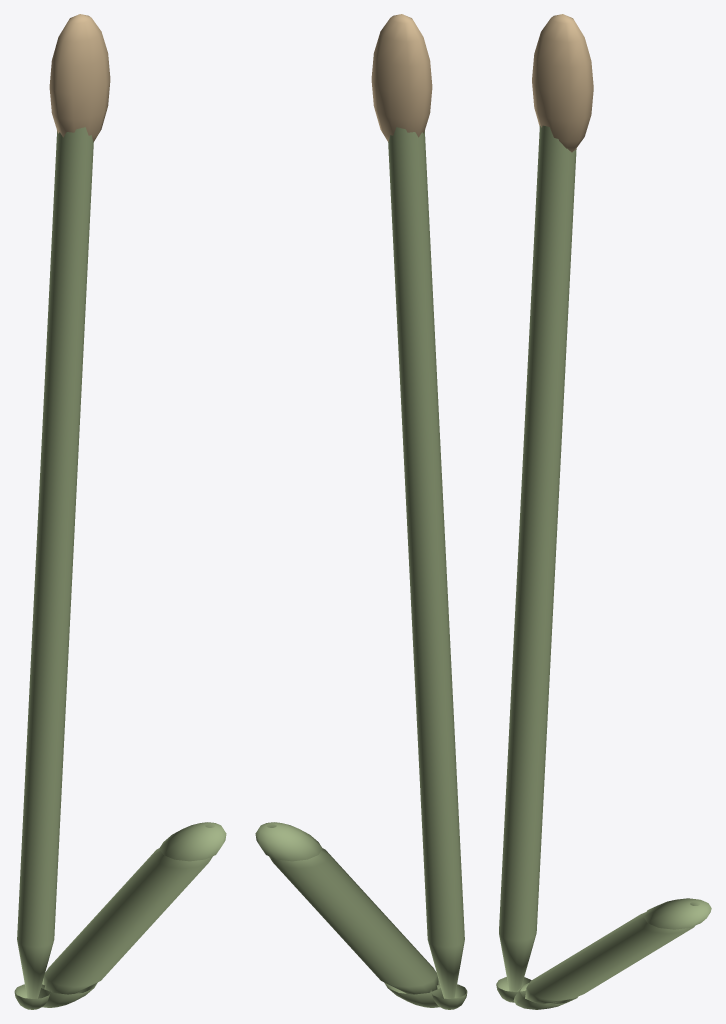
The model's file is reed.glb.
The picture shows the model from 3 angles, left to right: view 1: azimuth 30°, elevation 25°; view 2: azimuth 150°, elevation 25°; view 3: azimuth 330°, elevation 25°; orthographic projection.
Parts seen in each view (by area): view 1: stem, leaf, head; view 2: stem, leaf, head; view 3: stem, leaf, head.
Part boxes in pixels (x1,y1,x2,y2): stem: (14, 127, 93, 1009); leaf: (38, 822, 226, 1007); head: (49, 14, 110, 141); stem: (388, 127, 467, 1009); leaf: (255, 822, 443, 1007); head: (371, 14, 432, 141); stem: (496, 125, 576, 1002); leaf: (513, 898, 711, 1009); head: (532, 14, 593, 152).
Size of the model in its own units: 0.1411 by 0.6417 by 0.036.
